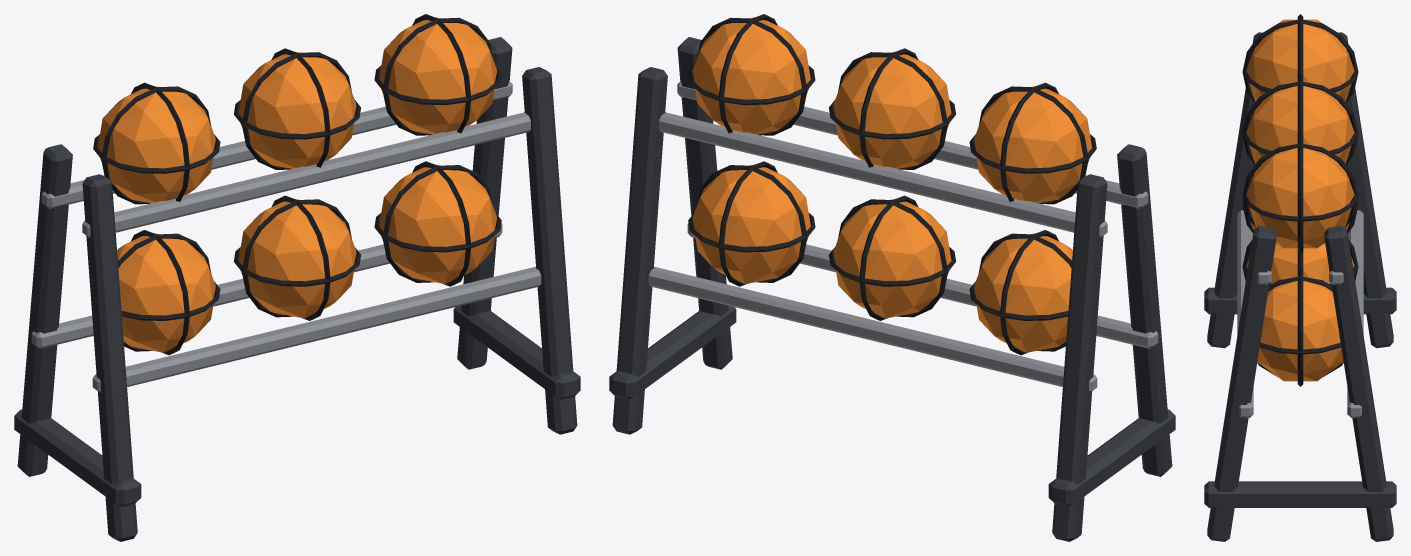
The model's file is ball_rack.glb.
The picture shows the model from 3 angles, left to right: view 1: azimuth 30°, elevation 25°; view 2: azimuth 150°, elevation 25°; view 3: azimuth 270°, elevation 25°; orthographic projection. The views are drawn at different scales.
Visible parts, largest first — view 1: ball_rack; view 2: ball_rack; view 3: ball_rack.
Boxes of the visible parts, x1,y1,x2,y2 form: ball_rack: (14, 14, 580, 541); ball_rack: (609, 14, 1175, 541); ball_rack: (1204, 14, 1396, 541).
Size of the model in its own units: 1.06 by 0.8687 by 0.42.
